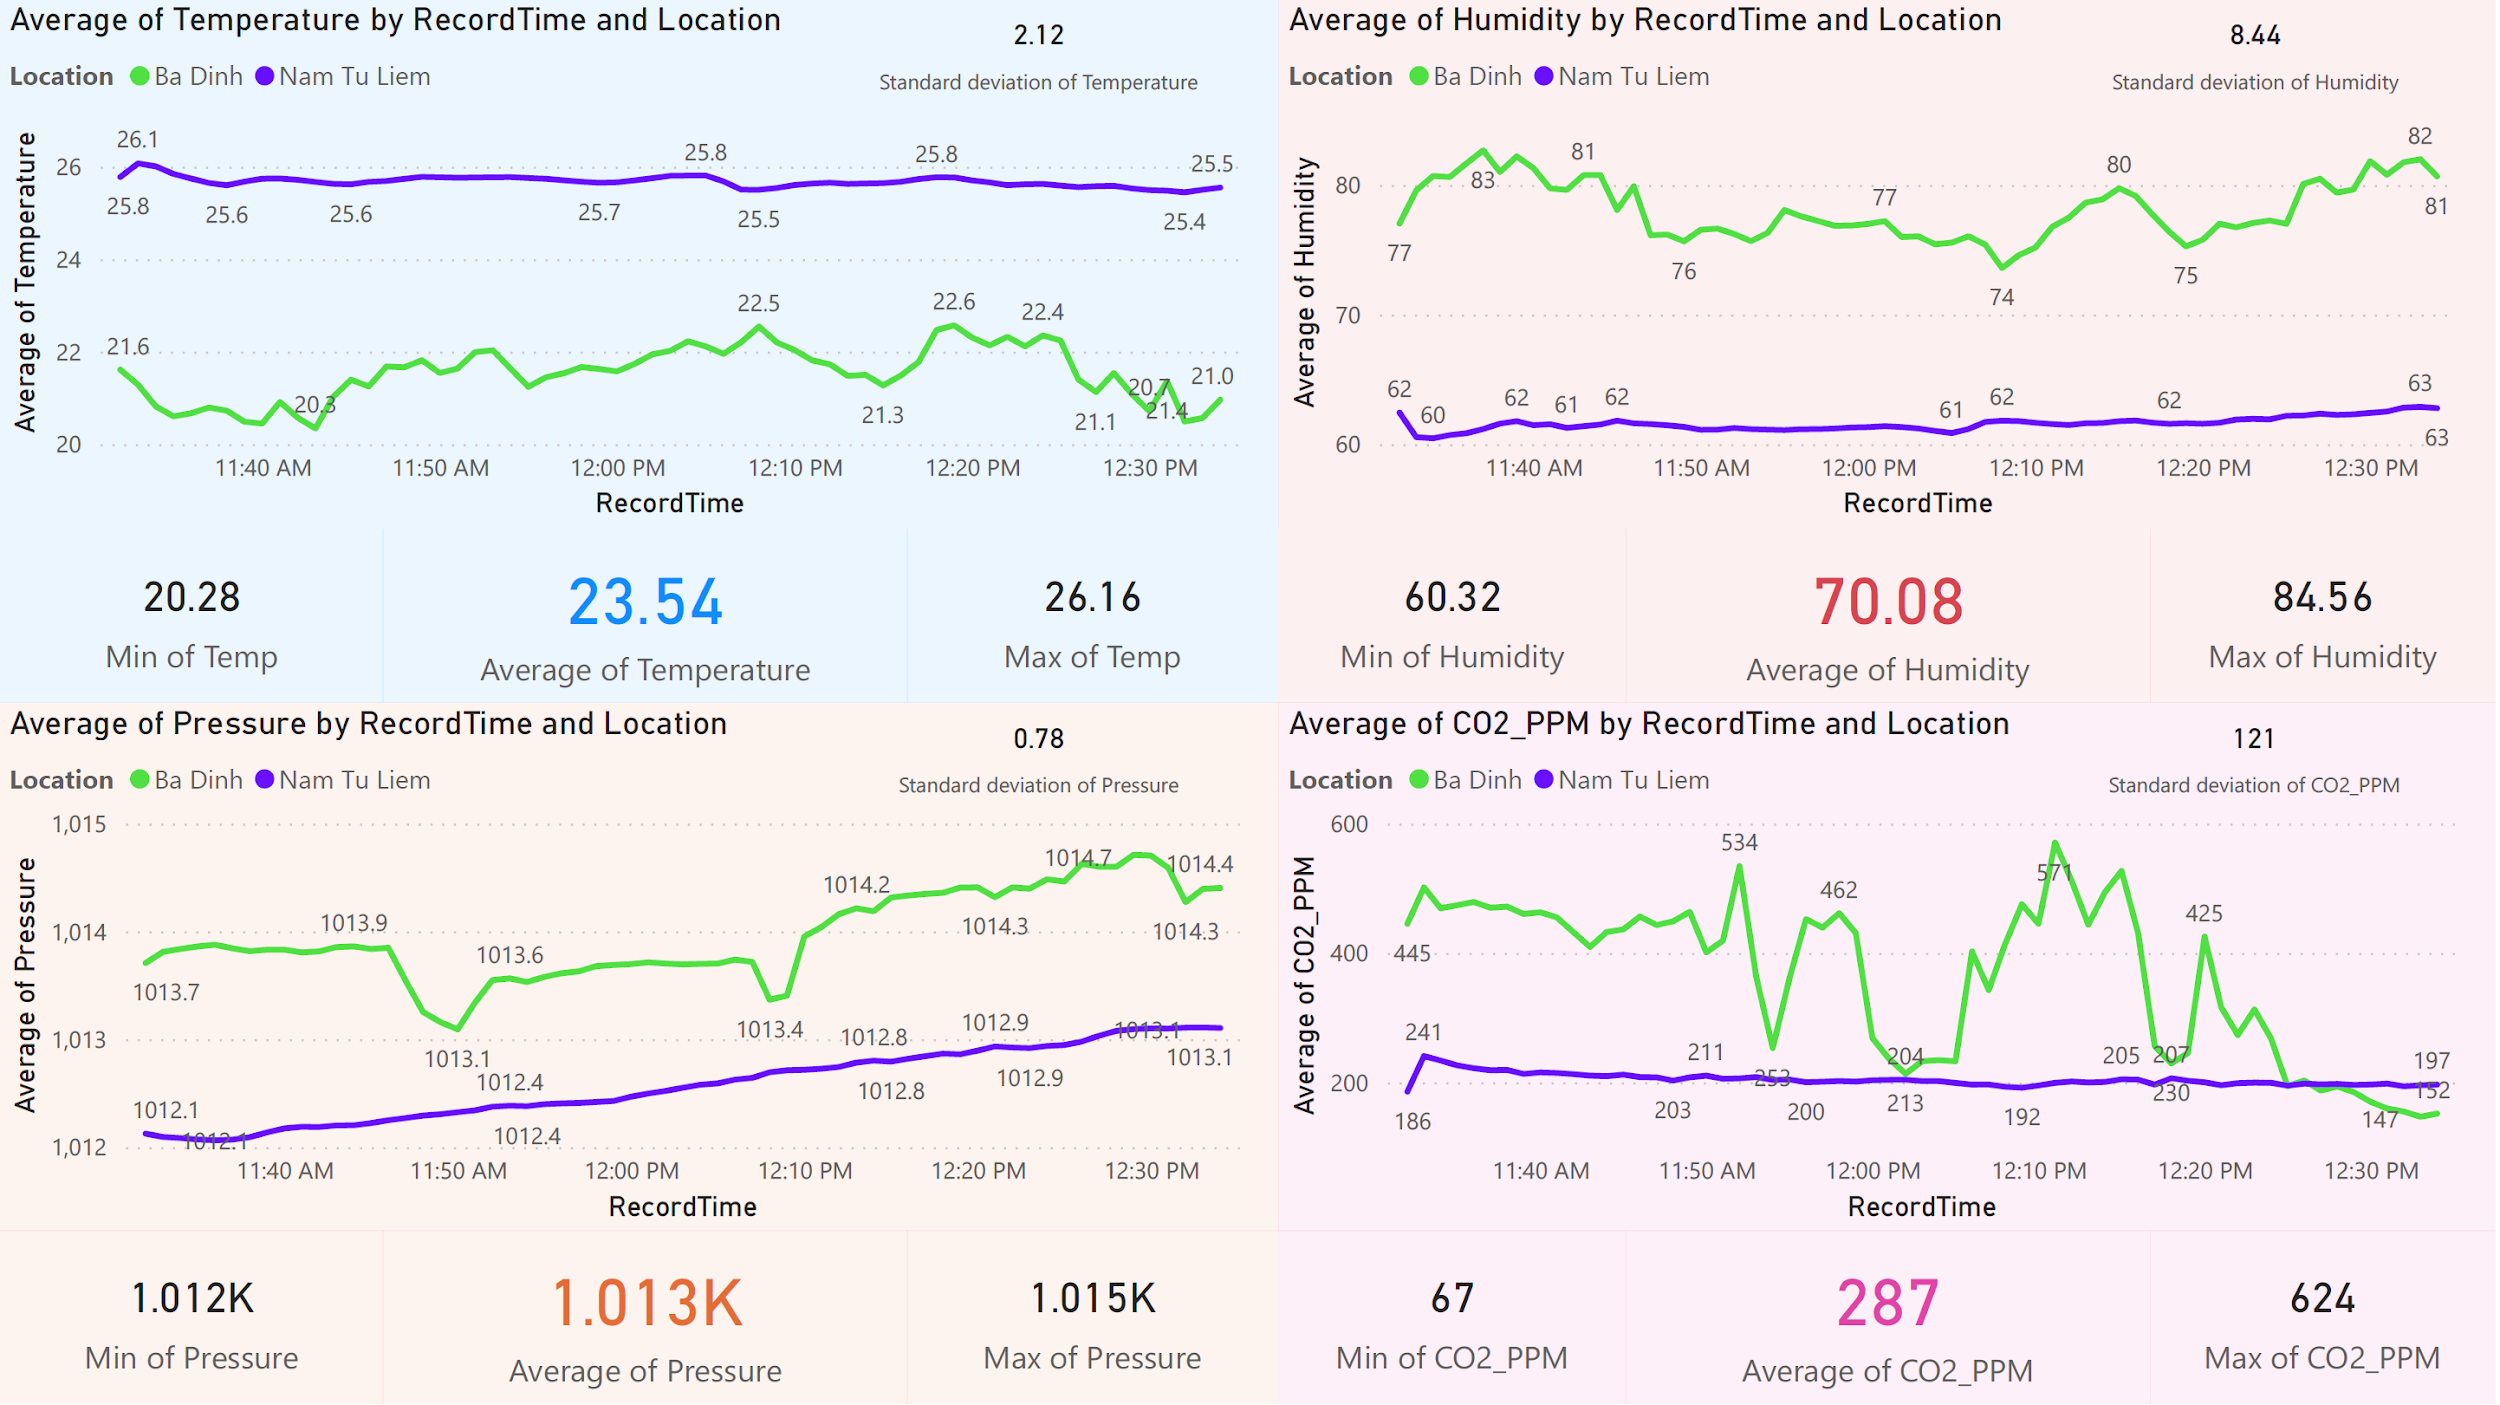

Layout of this report page (visuals, bound fields, positions):
{"tool":"powerbi","page":{"name":"Ba Dinh","canvas":[1280,720],"ordinal":0},"visuals":[{"type":"lineChart","fields":{"Category":["weatherNodes_database.RecordTime"],"Y":["Avg(weatherNodes_database.Temperature)"],"Series":["weatherNodes_database.Location"]},"box":[0,0,655.9,271.4],"z":0},{"type":"lineChart","fields":{"Category":["weatherNodes_database.RecordTime"],"Series":["weatherNodes_database.Location"],"Y":["Avg(weatherNodes_database.Humidity)"]},"box":[655.9,0,623.9,271.4],"z":1000},{"type":"lineChart","fields":{"Category":["weatherNodes_database.RecordTime"],"Series":["weatherNodes_database.Location"],"Y":["Avg(weatherNodes_database.Pressure)"]},"box":[0,360.4,655.9,270.6],"z":2000},{"type":"lineChart","fields":{"Category":["weatherNodes_database.RecordTime"],"Series":["weatherNodes_database.Location"],"Y":["Avg(weatherNodes_database.CO2_PPM)"]},"box":[655.9,360.4,623.9,270.6],"z":3000},{"type":"card","fields":{"Values":["Avg(weatherNodes_database.Humidity)"]},"box":[833.9,271.4,268.8,89],"z":4000},{"type":"card","fields":{"Values":["Min(weatherNodes_database.Humidity)"]},"box":[655.9,271.4,178,89],"z":5000},{"type":"card","fields":{"Values":["Max(weatherNodes_database.Humidity)"]},"box":[1102.7,271.4,177.1,89],"z":6000},{"type":"card","fields":{"Values":["Max(weatherNodes_database.Temperature)"]},"box":[465.5,271.4,190.5,89],"z":7000},{"type":"card","fields":{"Values":["Avg(weatherNodes_database.Temperature)"]},"box":[196.7,271.4,268.8,89],"z":8000},{"type":"card","fields":{"Values":["Min(weatherNodes_database.Temperature)"]},"box":[0,271.4,196.7,89],"z":9000},{"type":"card","fields":{"Values":["Min(weatherNodes_database.Pressure)"]},"box":[0,631,196.7,89],"z":10000},{"type":"card","fields":{"Values":["Avg(weatherNodes_database.Pressure)"]},"box":[196.7,631,268.8,89],"z":11000},{"type":"card","fields":{"Values":["Max(weatherNodes_database.Pressure)"]},"box":[465.5,631,190.5,89],"z":12000},{"type":"card","fields":{"Values":["CountNonNull(weatherNodes_database.Temperature)"]},"box":[409.4,0,246.5,53.4],"z":13000},{"type":"card","fields":{"Values":["CountNonNull(weatherNodes_database.Humidity)"]},"box":[1033.3,0,246.5,53.4],"z":14000},{"type":"card","fields":{"Values":["CountNonNull(weatherNodes_database.Pressure)"]},"box":[409.4,360.4,246.5,53.4],"z":15000},{"type":"card","fields":{"Values":["CountNonNull(weatherNodes_database.CO2_PPM)"]},"box":[1033.7,360.1,246.3,53.4],"z":16000},{"type":"card","fields":{"Values":["Avg(weatherNodes_database.CO2_PPM)"]},"box":[833.9,631,268.8,89],"z":17000},{"type":"card","fields":{"Values":["Max(weatherNodes_database.CO2_PPM)"]},"box":[1102.7,631,177.1,89],"z":18000},{"type":"card","fields":{"Values":["Min(weatherNodes_database.CO2_PPM)"]},"box":[655.9,631,178,89],"z":19000}]}

Visuals, with their boxes in screenshot pixels (x1, y1, x2, y2), scaled from the page's 1280x720 canvas onto the 2500x1405 screenshot:
lineChart - weatherNodes_database.RecordTime x Avg(weatherNodes_database.Temperature): [left=0, top=0, right=1281, bottom=530]
lineChart - weatherNodes_database.RecordTime x weatherNodes_database.Location: [left=1281, top=0, right=2499, bottom=530]
lineChart - weatherNodes_database.RecordTime x weatherNodes_database.Location: [left=0, top=703, right=1281, bottom=1231]
lineChart - weatherNodes_database.RecordTime x weatherNodes_database.Location: [left=1281, top=703, right=2499, bottom=1231]
card - Avg(weatherNodes_database.Humidity): [left=1629, top=530, right=2154, bottom=703]
card - Min(weatherNodes_database.Humidity): [left=1281, top=530, right=1629, bottom=703]
card - Max(weatherNodes_database.Humidity): [left=2154, top=530, right=2499, bottom=703]
card - Max(weatherNodes_database.Temperature): [left=909, top=530, right=1281, bottom=703]
card - Avg(weatherNodes_database.Temperature): [left=384, top=530, right=909, bottom=703]
card - Min(weatherNodes_database.Temperature): [left=0, top=530, right=384, bottom=703]
card - Min(weatherNodes_database.Pressure): [left=0, top=1231, right=384, bottom=1404]
card - Avg(weatherNodes_database.Pressure): [left=384, top=1231, right=909, bottom=1404]
card - Max(weatherNodes_database.Pressure): [left=909, top=1231, right=1281, bottom=1404]
card - CountNonNull(weatherNodes_database.Temperature): [left=800, top=0, right=1281, bottom=104]
card - CountNonNull(weatherNodes_database.Humidity): [left=2018, top=0, right=2499, bottom=104]
card - CountNonNull(weatherNodes_database.Pressure): [left=800, top=703, right=1281, bottom=807]
card - CountNonNull(weatherNodes_database.CO2_PPM): [left=2019, top=703, right=2499, bottom=807]
card - Avg(weatherNodes_database.CO2_PPM): [left=1629, top=1231, right=2154, bottom=1404]
card - Max(weatherNodes_database.CO2_PPM): [left=2154, top=1231, right=2499, bottom=1404]
card - Min(weatherNodes_database.CO2_PPM): [left=1281, top=1231, right=1629, bottom=1404]
